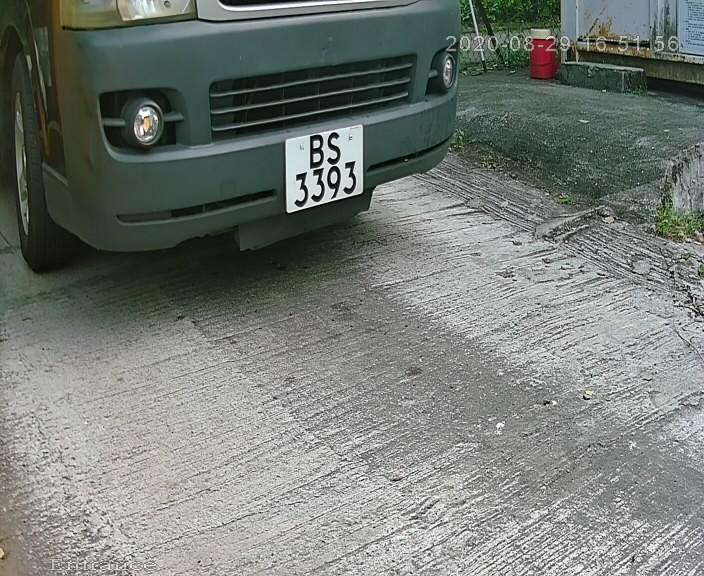Car: (16, 3, 522, 307)
License Plate: (274, 119, 375, 219)
